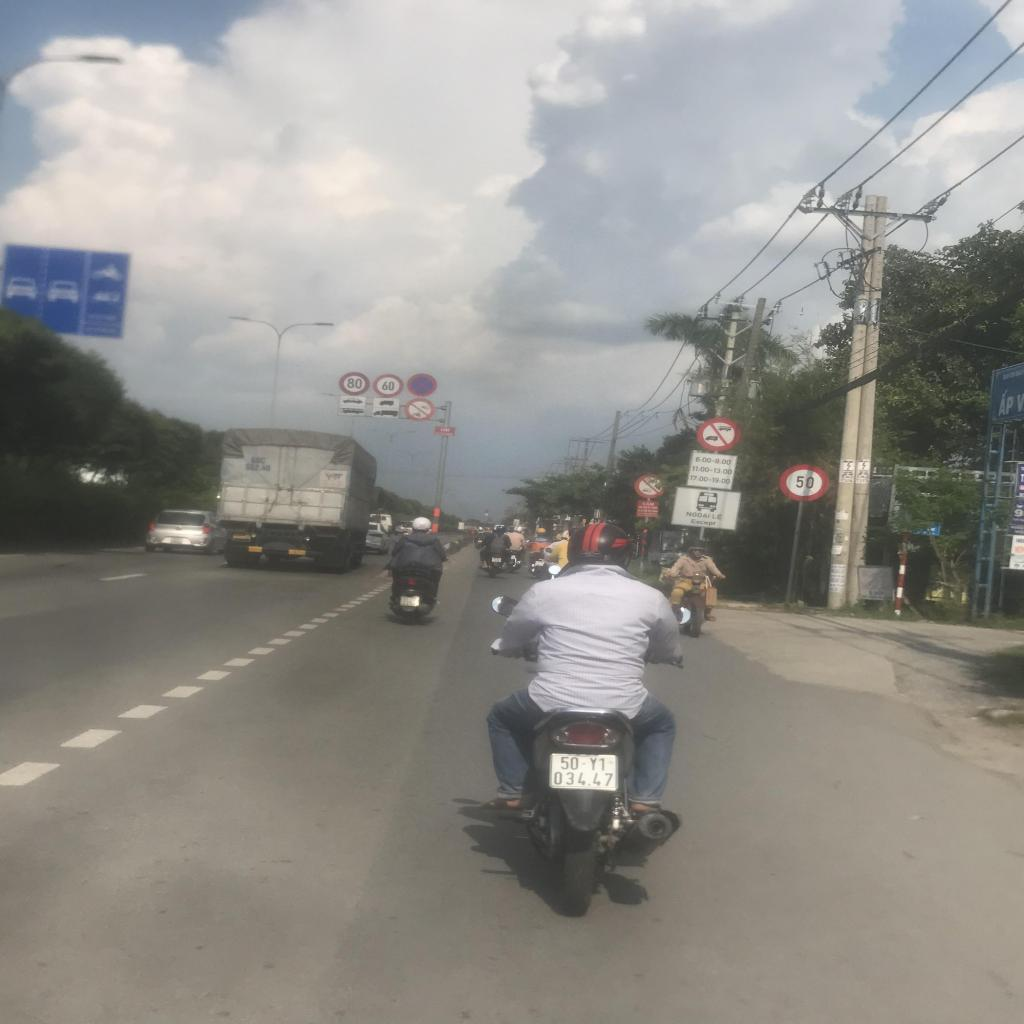cam_cac_loai_xe_3_banh: (634, 473, 666, 499)
cam_dung_xe_va_do_xe: (406, 374, 438, 398)
cam_o_to_tai_va_xe_khach: (696, 417, 741, 452)
cam_xe_2_banh_va_xe_3_banh_co_dong_co: (404, 398, 436, 422)
khac: (671, 488, 741, 532), (687, 452, 737, 490), (339, 395, 366, 407), (373, 398, 398, 409), (338, 406, 365, 416), (372, 408, 399, 418)
lan_duong_cho_tung_xe_theo_vach_ke_duong: (0, 244, 130, 340)
toc_do_toi_da_50: (779, 464, 830, 502)
toc_do_toi_da_60: (372, 374, 405, 398)
toc_do_toi_da_80: (338, 372, 370, 396)
